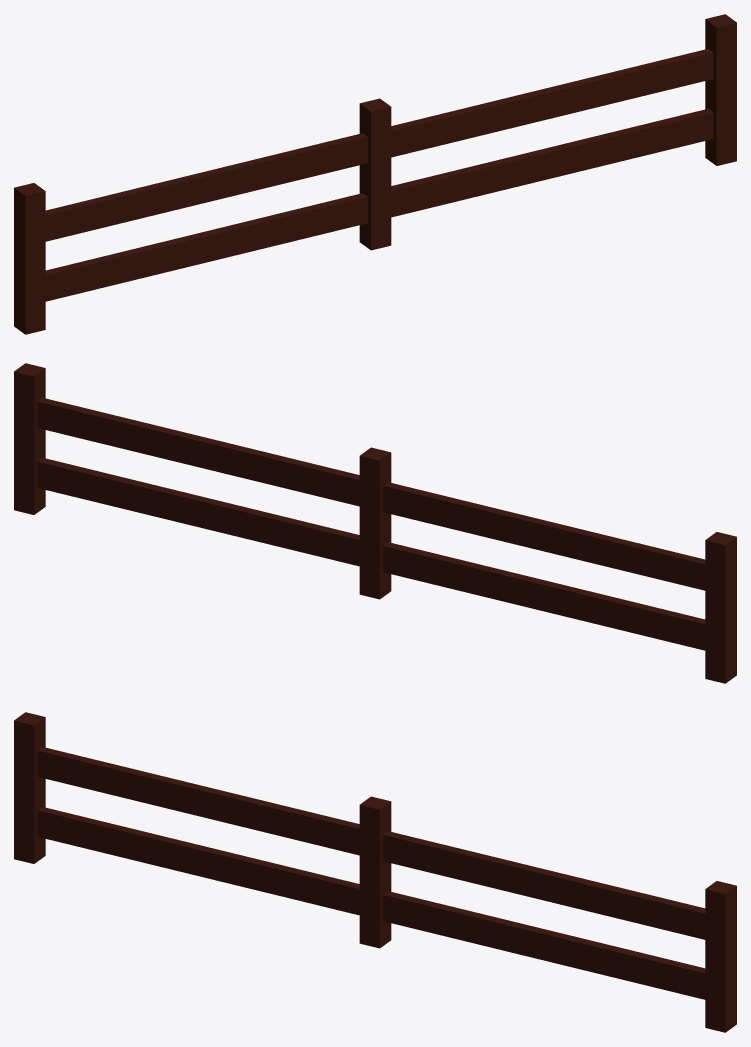
The model's file is Fence.fbx.
The picture shows the model from 3 angles, top to bottom: view 1: azimuth 30°, elevation 25°; view 2: azimuth 150°, elevation 25°; view 3: azimuth 330°, elevation 25°; orthographic projection.
Parts seen in each view (by area): view 1: Fence; view 2: Fence; view 3: Fence.
Boxes of the visible parts, bbox=[...] form: Fence: bbox=[14, 14, 736, 334]; Fence: bbox=[14, 363, 736, 683]; Fence: bbox=[14, 712, 736, 1032].
Bounding box in the file's own units: 5.89 × 1.1 × 0.1655.
